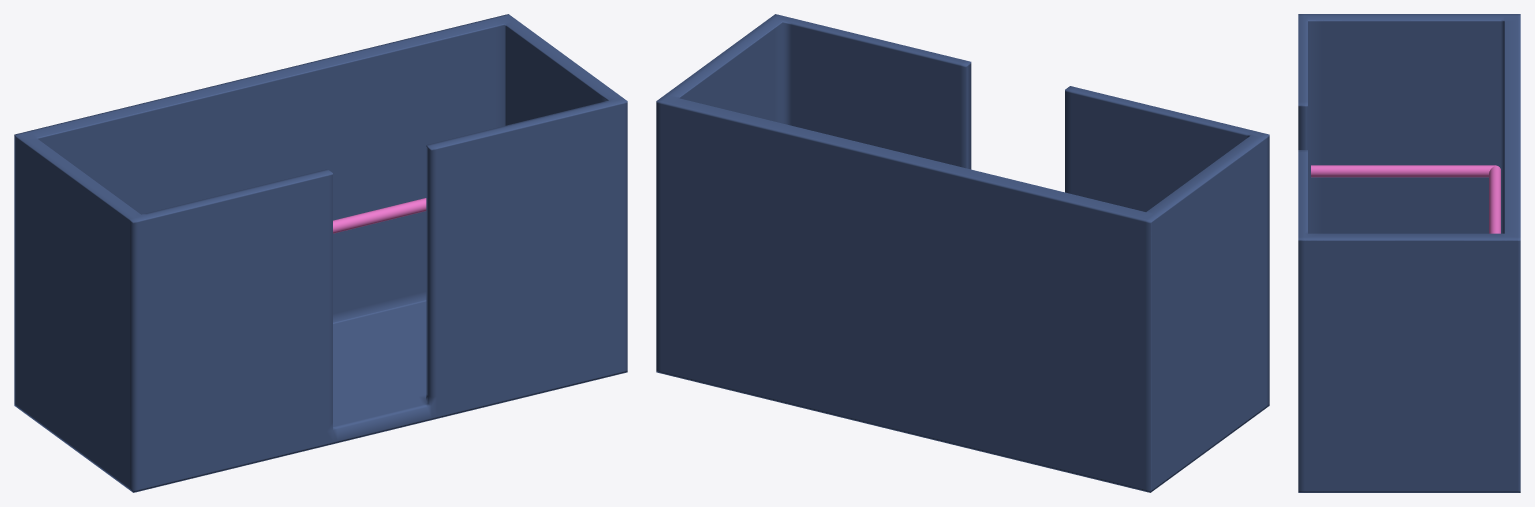
File: Quick_Elevator_Export2.fbx
3 renders of one model, left to right at view 1: azimuth 30°, elevation 25°; view 2: azimuth 150°, elevation 25°; view 3: azimuth 270°, elevation 25°, orthographic. The views are drawn at different scales.
Visible parts, largest first — view 1: pCube1, pCylinder1; view 2: pCube1; view 3: pCube1, pCylinder2, pCylinder1.
Part boxes in pixels (box(x1,y1,x2,y2)): pCube1: box(14, 14, 627, 492); pCylinder1: box(333, 198, 426, 233); pCube1: box(656, 14, 1269, 492); pCube1: box(1298, 14, 1520, 492); pCylinder2: box(1311, 165, 1493, 177); pCylinder1: box(1489, 165, 1500, 233).
Size of the model in its own units: 20.55 by 10.78 by 8.58.
